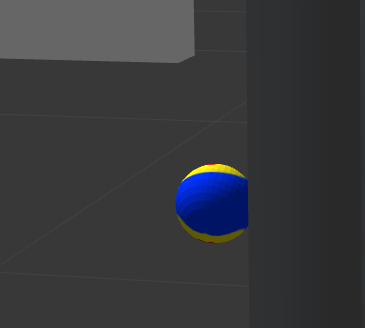toy_story_ball: (175, 163, 249, 244)
